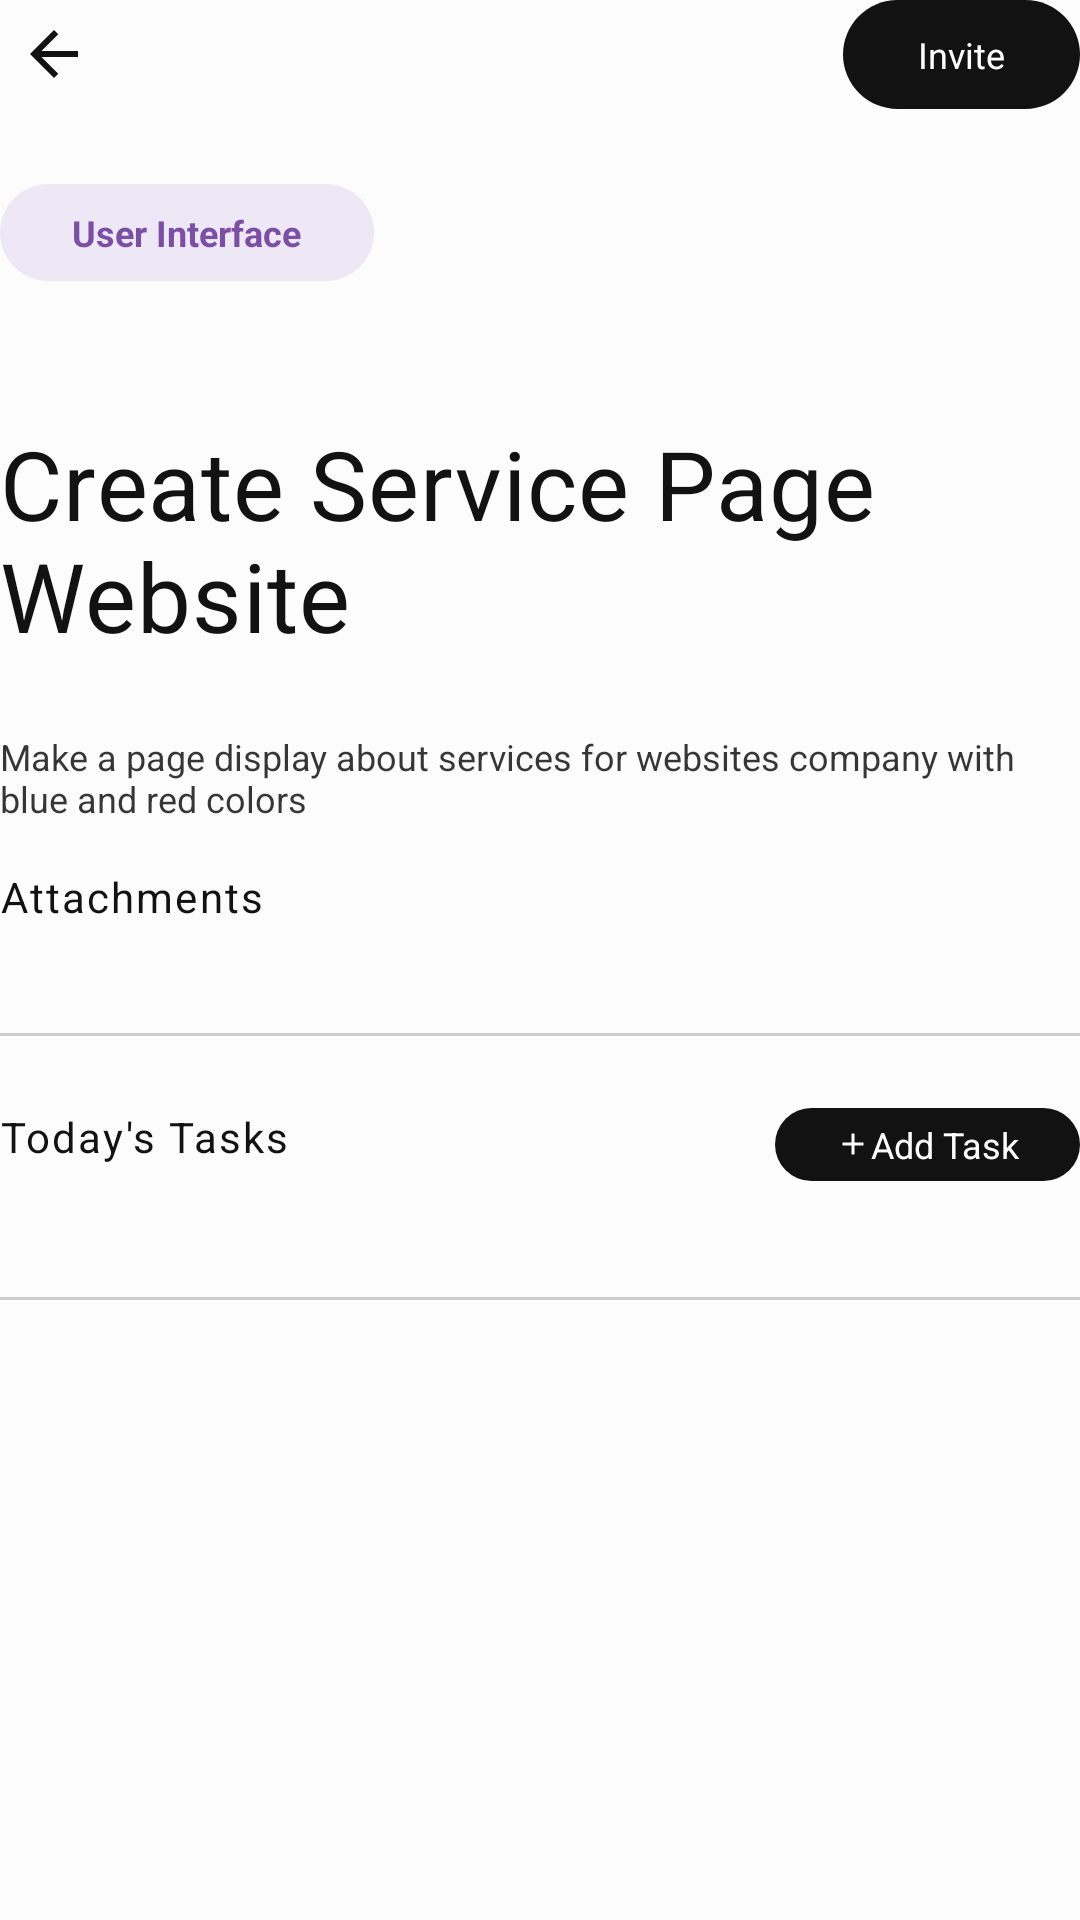

Where to tap for icons on this 1080 × 1920 app screen, as [x,y]:
back: [54,54]
